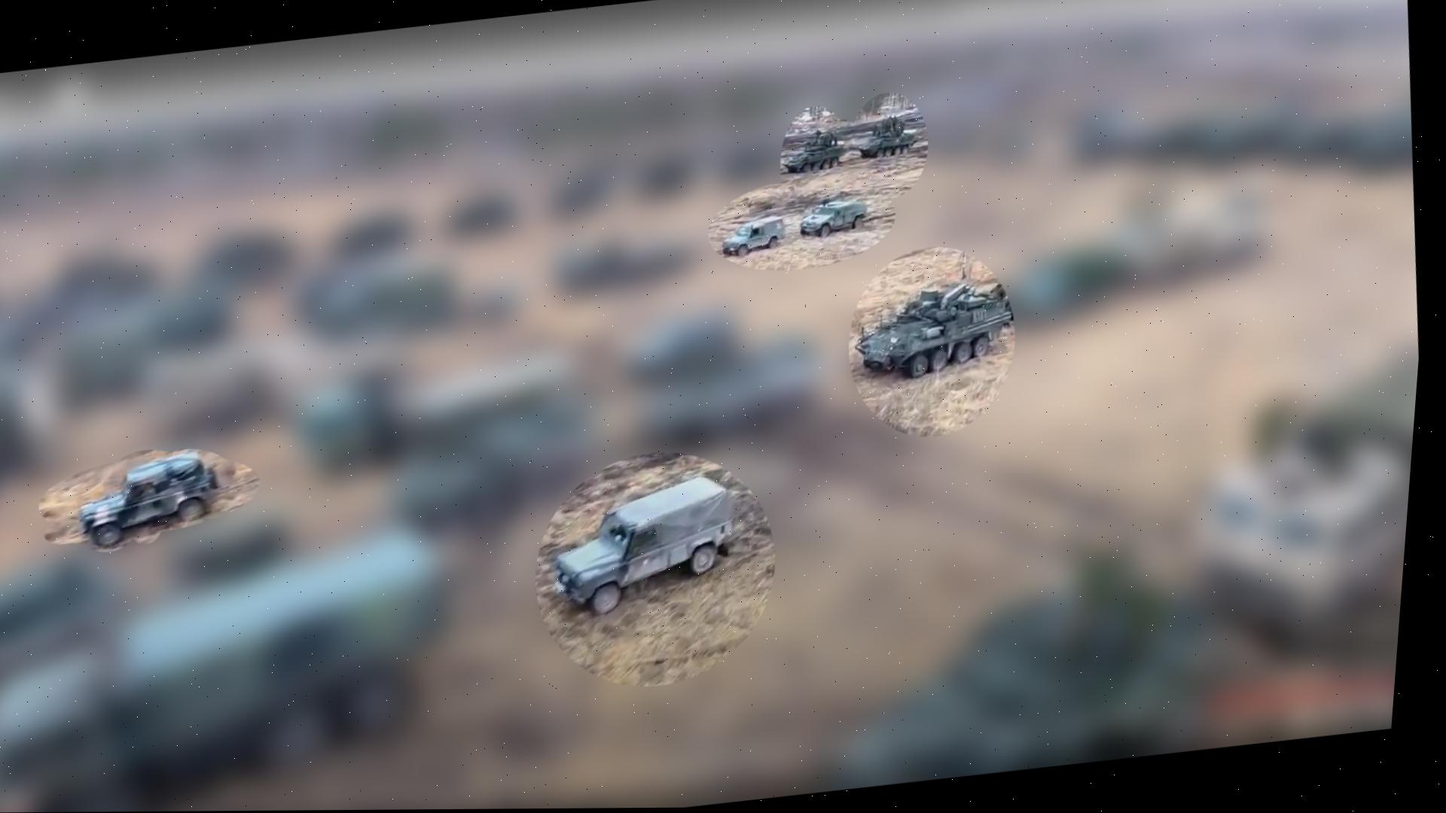armored_car: (536, 470, 746, 624), (845, 270, 1025, 385), (73, 447, 230, 552), (794, 196, 873, 243), (717, 210, 790, 260), (779, 128, 850, 177), (854, 120, 922, 161)
